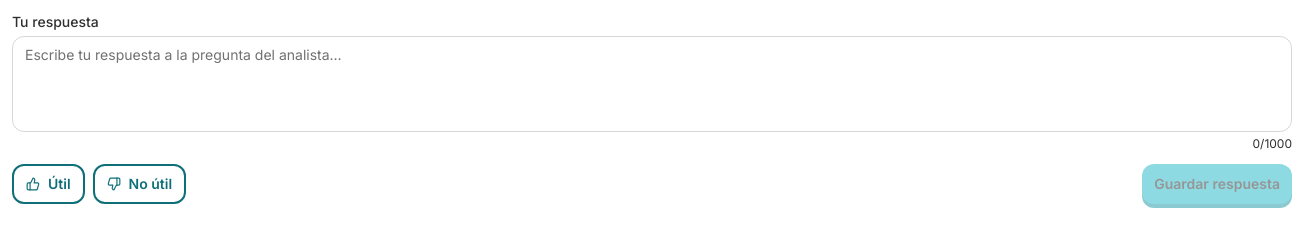
CoachAnswerForm › muestra el contador de caracteres y respeta el máximo de 1000
Expected: the text "0/1000" is shown, left=1252, top=136, right=1292, bottom=152
Type "Hola" into the text box labelled "Tu respuesta" at [652, 84], box left=12, top=36, right=1292, bottom=132
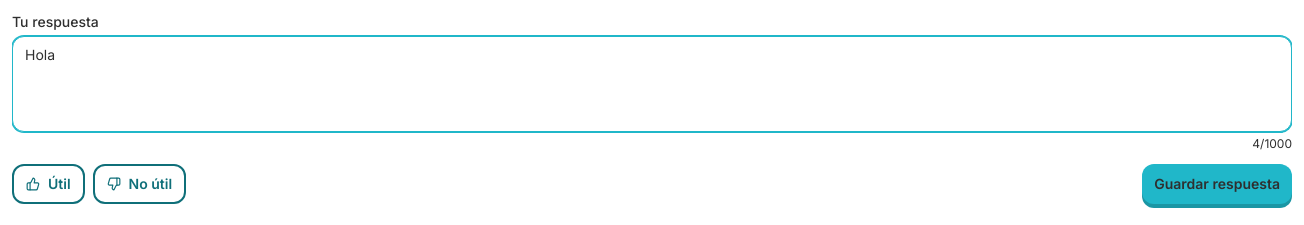
Result: the text "4/1000" is shown at left=1252, top=136, right=1292, bottom=152
